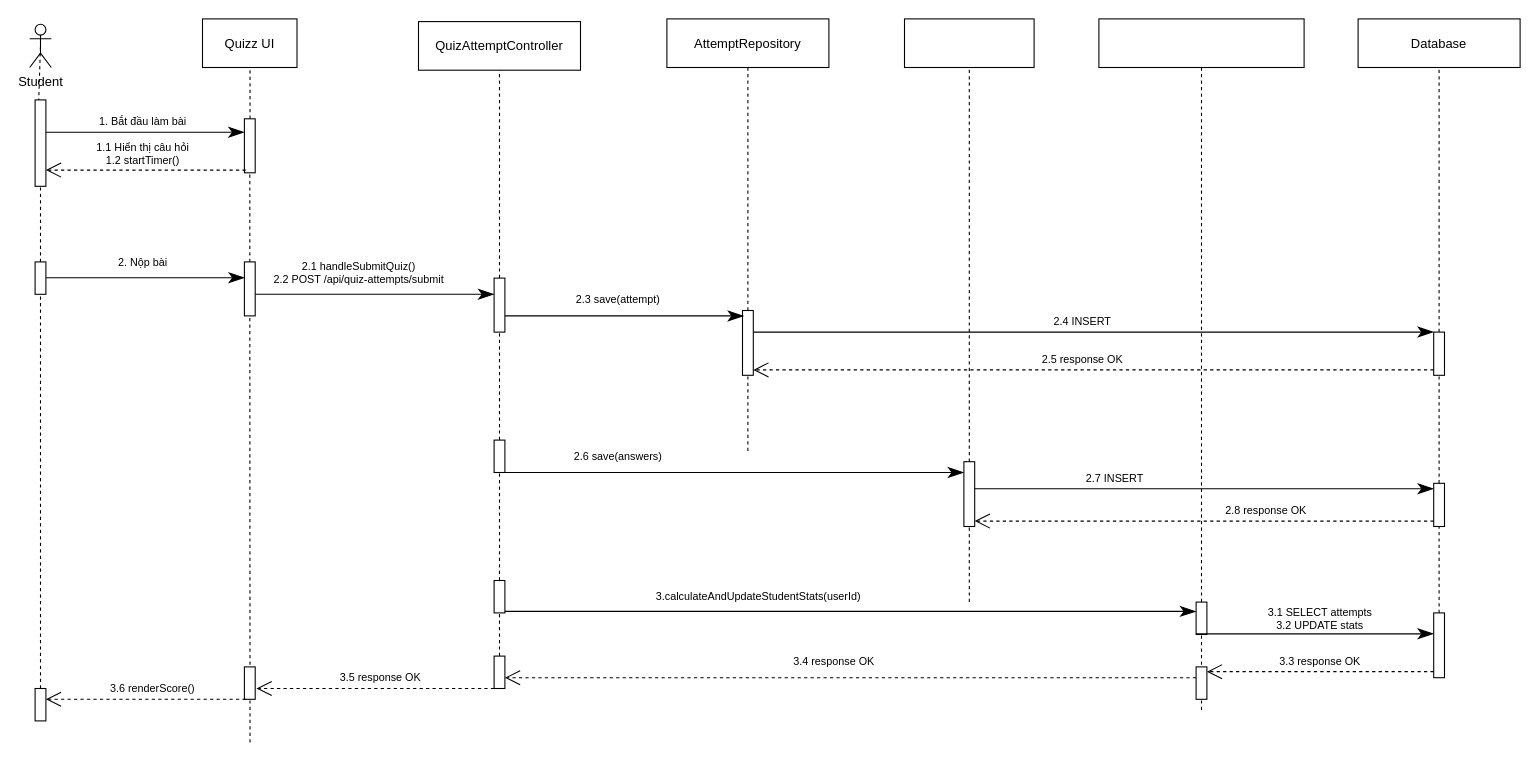
The diagram is 1539 pixels wide and 762 high, and some of its shapes have lost their labels. Each missing label, with the centre of its shape:
AnswerRepository: point (968, 43)
StudentStatsCalculationService: point (1201, 43)
